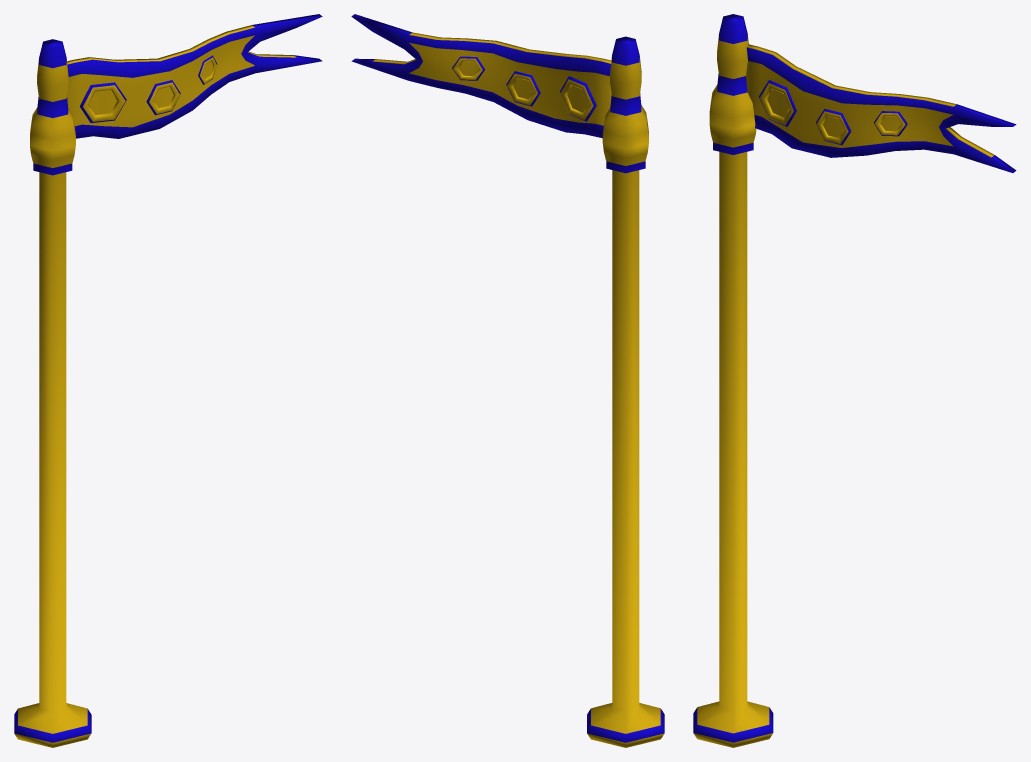
Rendered from Gather_Point_Player_Blue.fbx.
The picture shows the model from 3 angles, left to right: view 1: azimuth 30°, elevation 25°; view 2: azimuth 150°, elevation 25°; view 3: azimuth 330°, elevation 25°; orthographic projection. The views are drawn at different scales.
Parts seen in each view (by area): view 1: Torus.002; view 2: Torus.002; view 3: Torus.002.
Part boxes in pixels (x1=…): Torus.002: x1=14, y1=14, x2=322, y2=747; Torus.002: x1=351, y1=14, x2=664, y2=747; Torus.002: x1=693, y1=14, x2=1016, y2=747.
Bounding box in the file's own units: 200 × 424 × 43.3.
